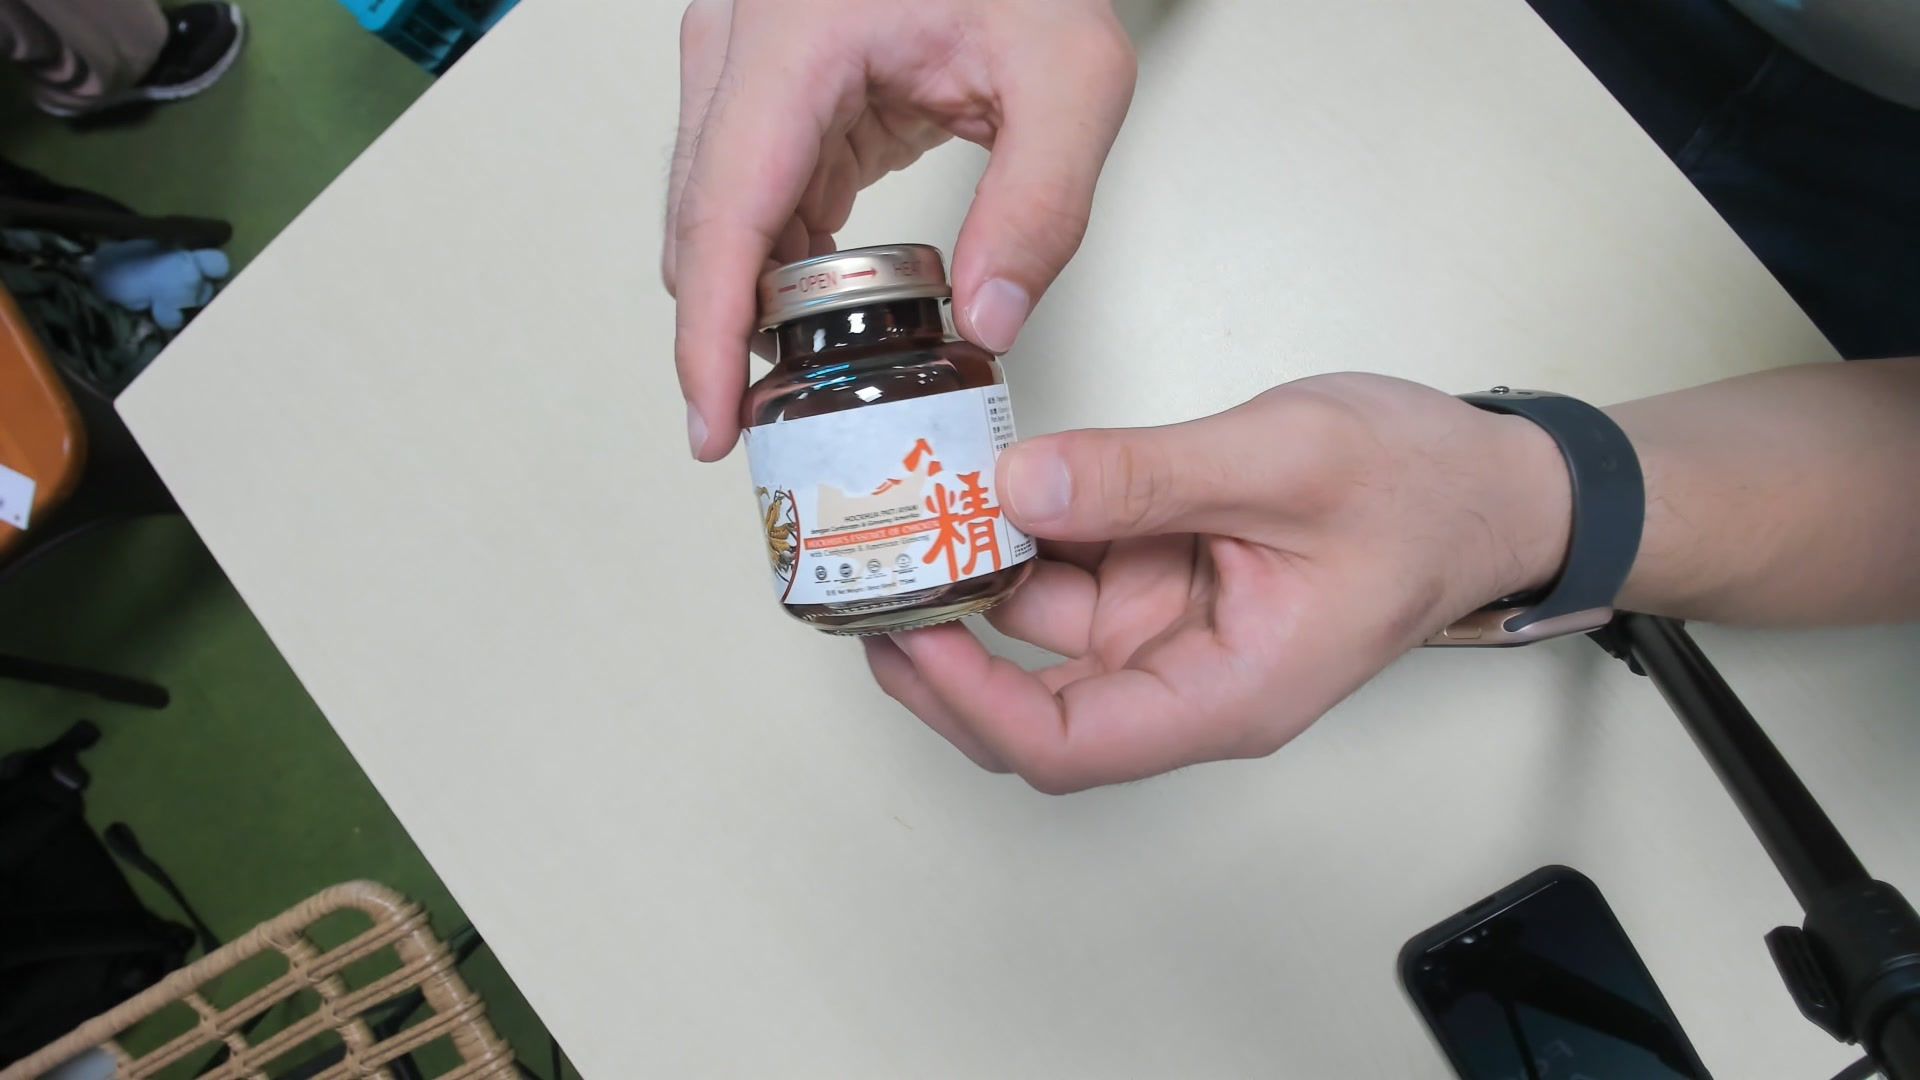OtherSauceDressing_0-99g_NonHalal_NonHealthy: (736, 245, 1040, 636)
